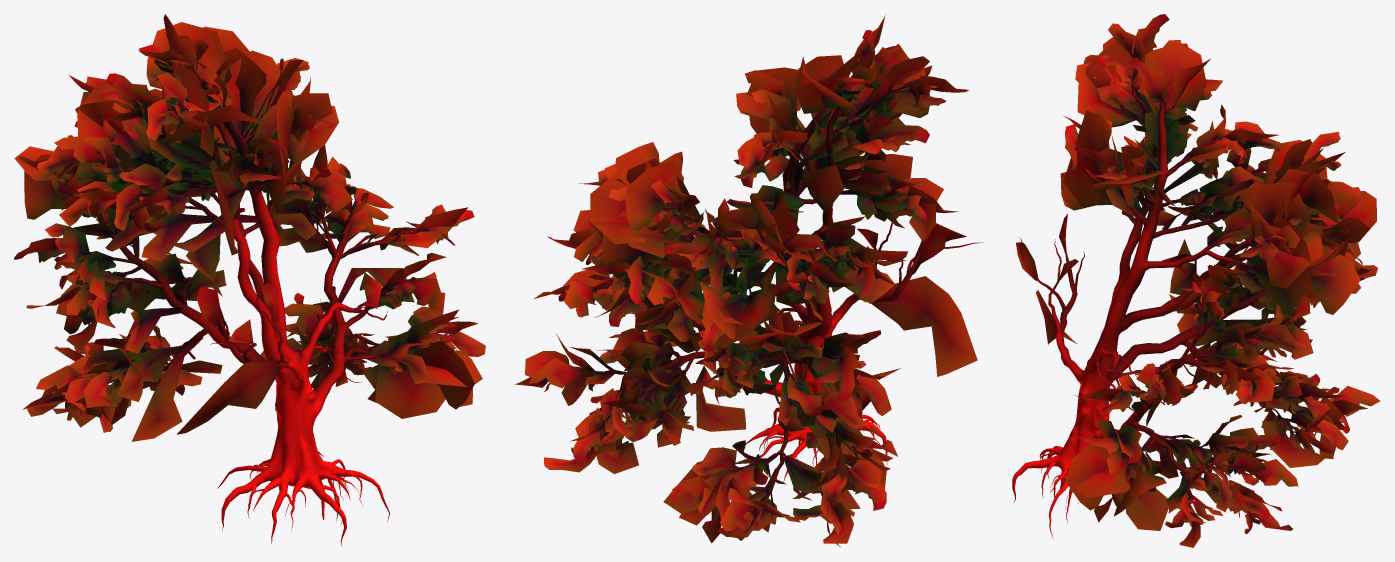
The model's file is JuniperOldGCATA_B.fbx.
3 views of the same model, side by side, from view 1: azimuth 30°, elevation 25°; view 2: azimuth 150°, elevation 25°; view 3: azimuth 270°, elevation 25° (orthographic). The views are drawn at different scales.
Visible parts, largest first — view 1: JOGCB_Leaves_LOD0, JOGCB_Bark_LOD0; view 2: JOGCB_Leaves_LOD0, JOGCB_Bark_LOD0; view 3: JOGCB_Leaves_LOD0, JOGCB_Bark_LOD0.
Part boxes in pixels (box(x1,y1,x2,y2)): JOGCB_Leaves_LOD0: box(14, 14, 485, 441); JOGCB_Bark_LOD0: box(55, 59, 433, 545); JOGCB_Leaves_LOD0: box(514, 15, 977, 546); JOGCB_Bark_LOD0: box(582, 58, 982, 514); JOGCB_Leaves_LOD0: box(1016, 14, 1380, 547); JOGCB_Bark_LOD0: box(1012, 68, 1322, 538).
Size of what is drawn, in the model's own units: 15.05 by 17.44 by 12.72.
